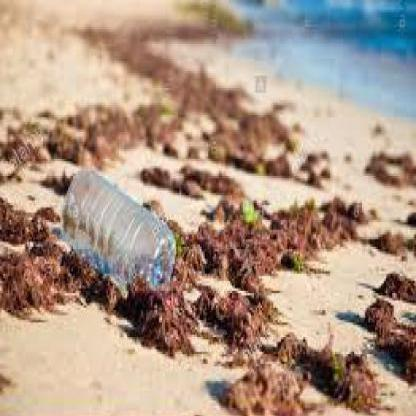Glass: (60, 165, 178, 290)
